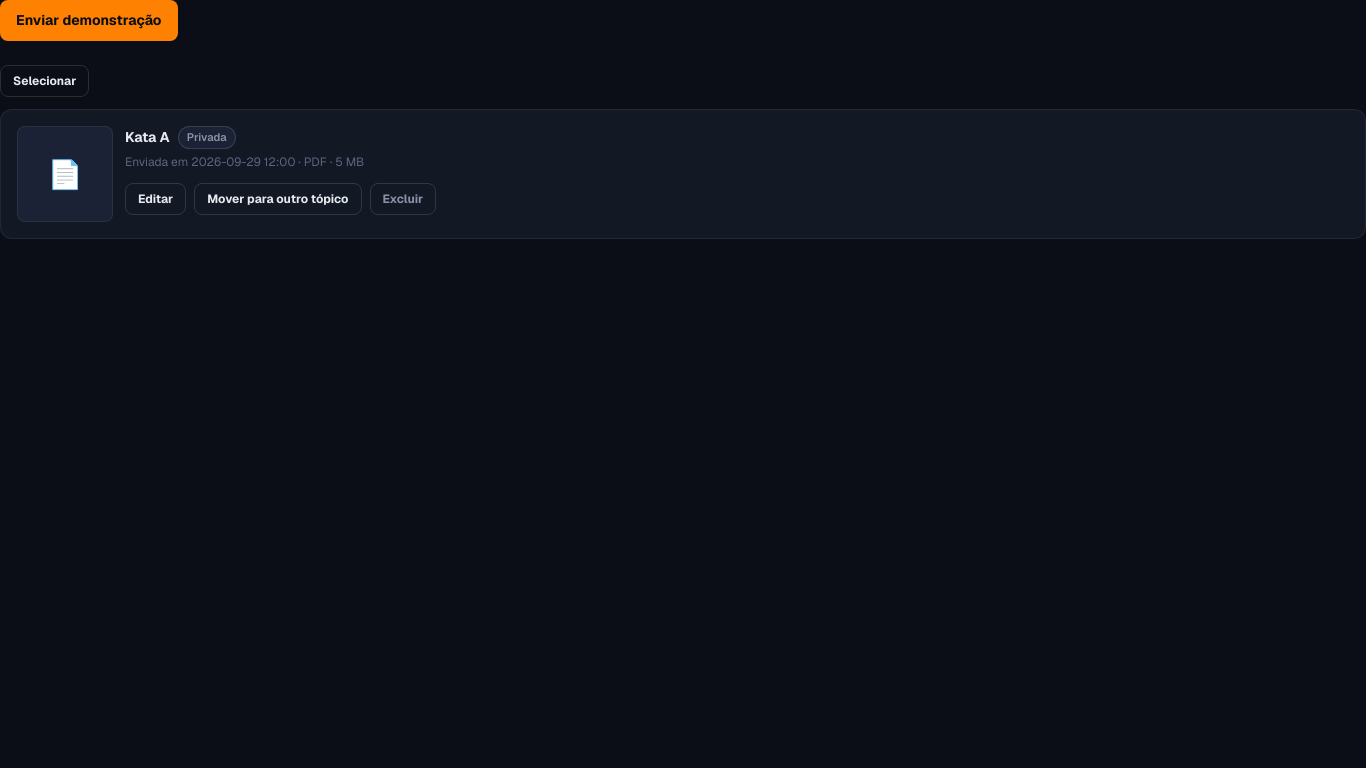
Test: MineTab › opens a ready submission in the existing viewer
Step 1. Click the button "📄" → x=65, y=174, box [17,126,113,222]
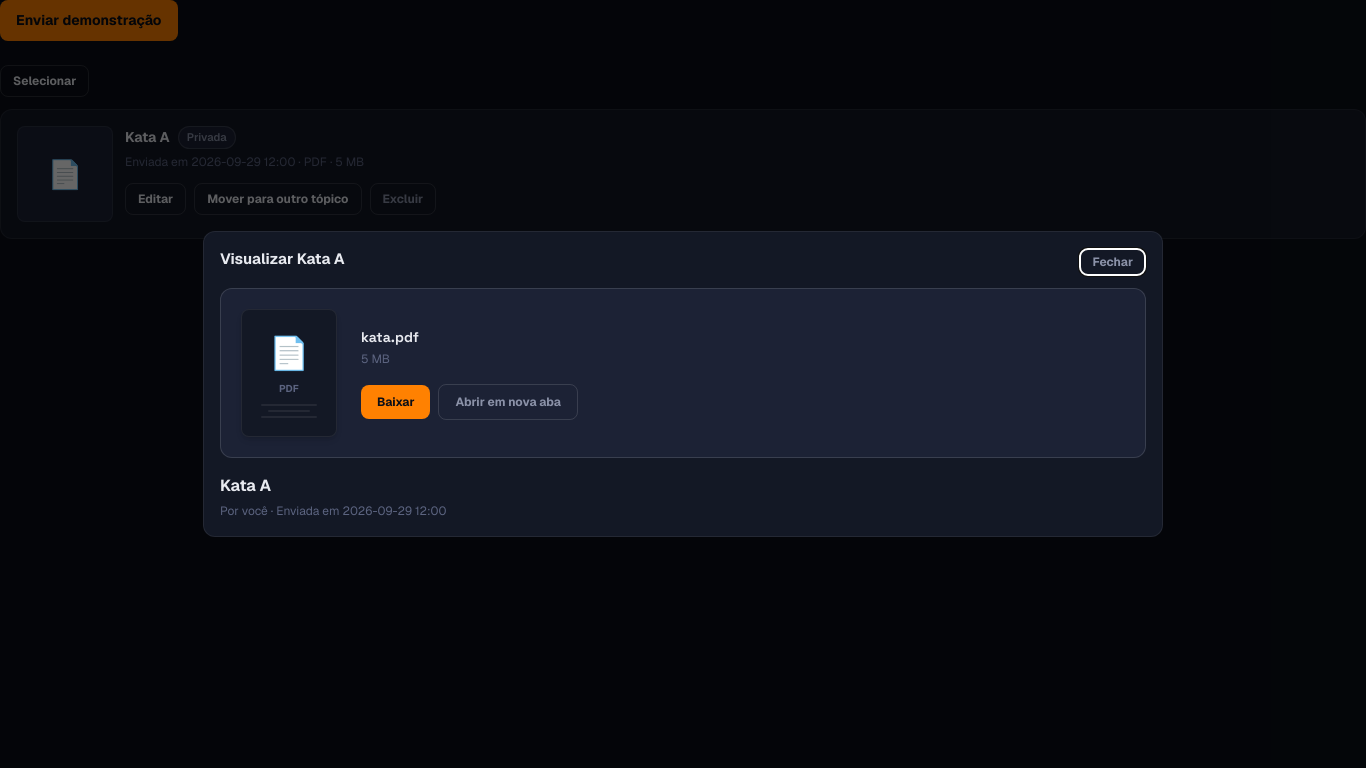
Step 2. Click the button "Fechar" → x=1113, y=262, box [1079,248,1146,276]
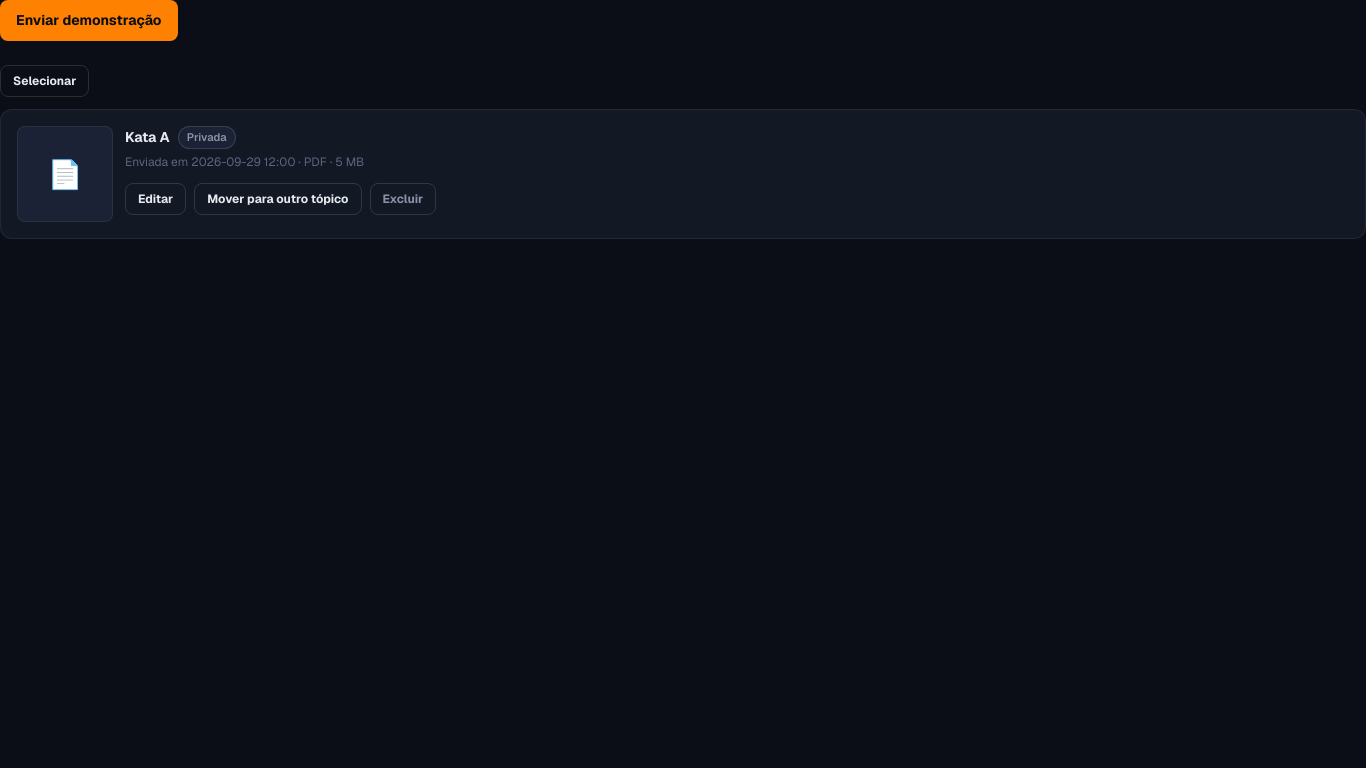
Now the dialog is gone
